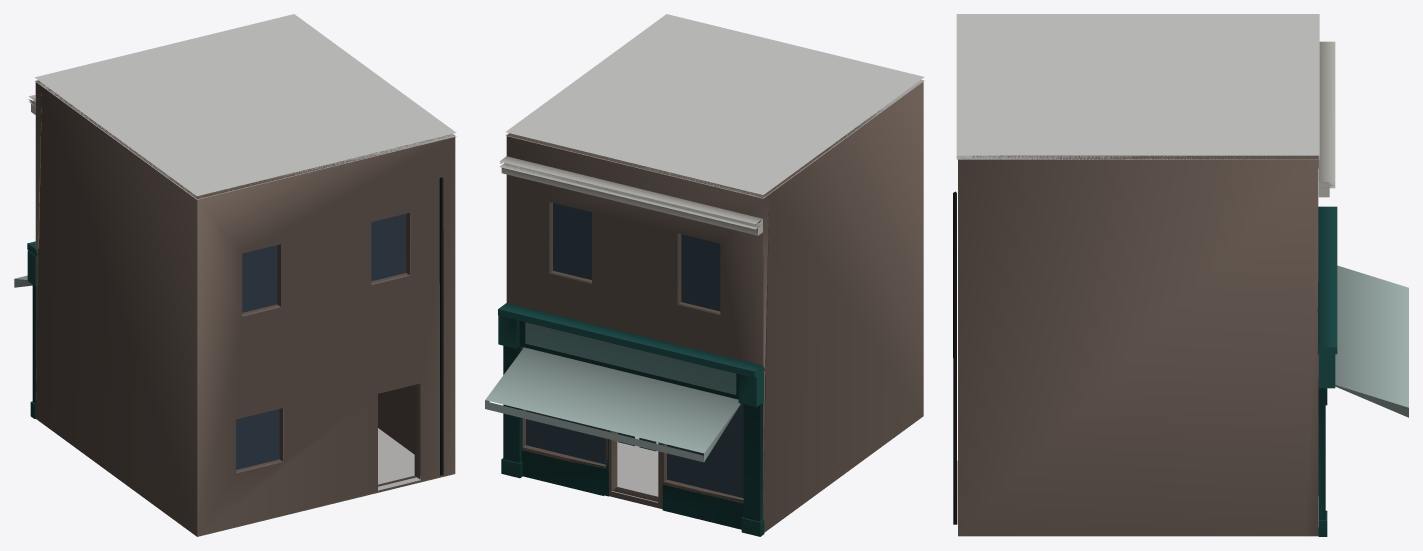
The model's file is cafe-front_mirror.glb.
3 views of the same model, side by side, from view 1: azimuth 30°, elevation 25°; view 2: azimuth 150°, elevation 25°; view 3: azimuth 270°, elevation 25° (orthographic). The views are drawn at different scales.
Visible parts, largest first — view 1: cafe-front_mirror; view 2: cafe-front_mirror; view 3: cafe-front_mirror.
Part boxes in pixels (left/top/right/bottom): cafe-front_mirror: left=14, top=14, right=456, bottom=536; cafe-front_mirror: left=485, top=14, right=924, bottom=536; cafe-front_mirror: left=953, top=14, right=1408, bottom=536.
Bounding box in the file's own units: 6.06 × 7.59 × 8.22.
